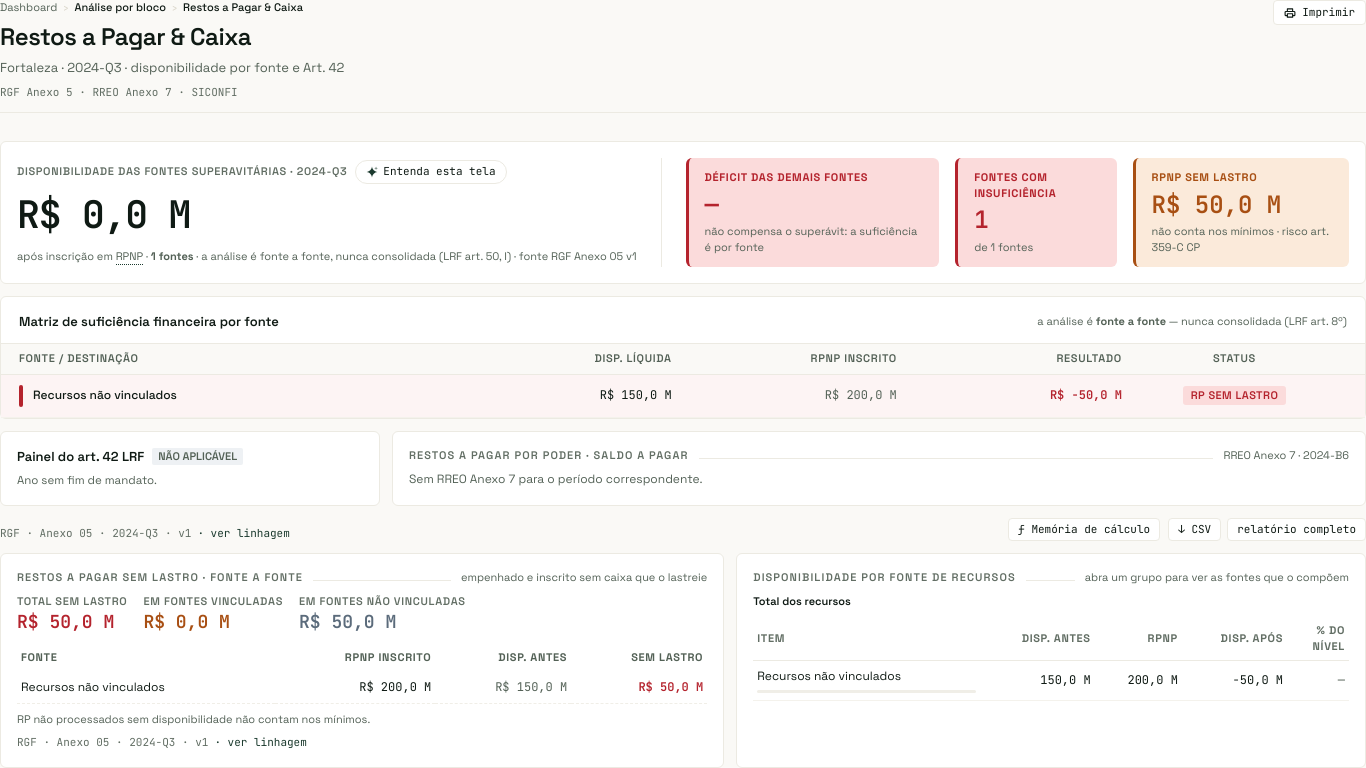
Test: Caixa — RP sem lastro, árvore por fonte e série › abre a memória de cálculo do caixa (endpoint antes ocioso)
Step 1. Click the button "ƒ Memória de cálculo" → click(1084, 530), box [1008,518,1160,541]
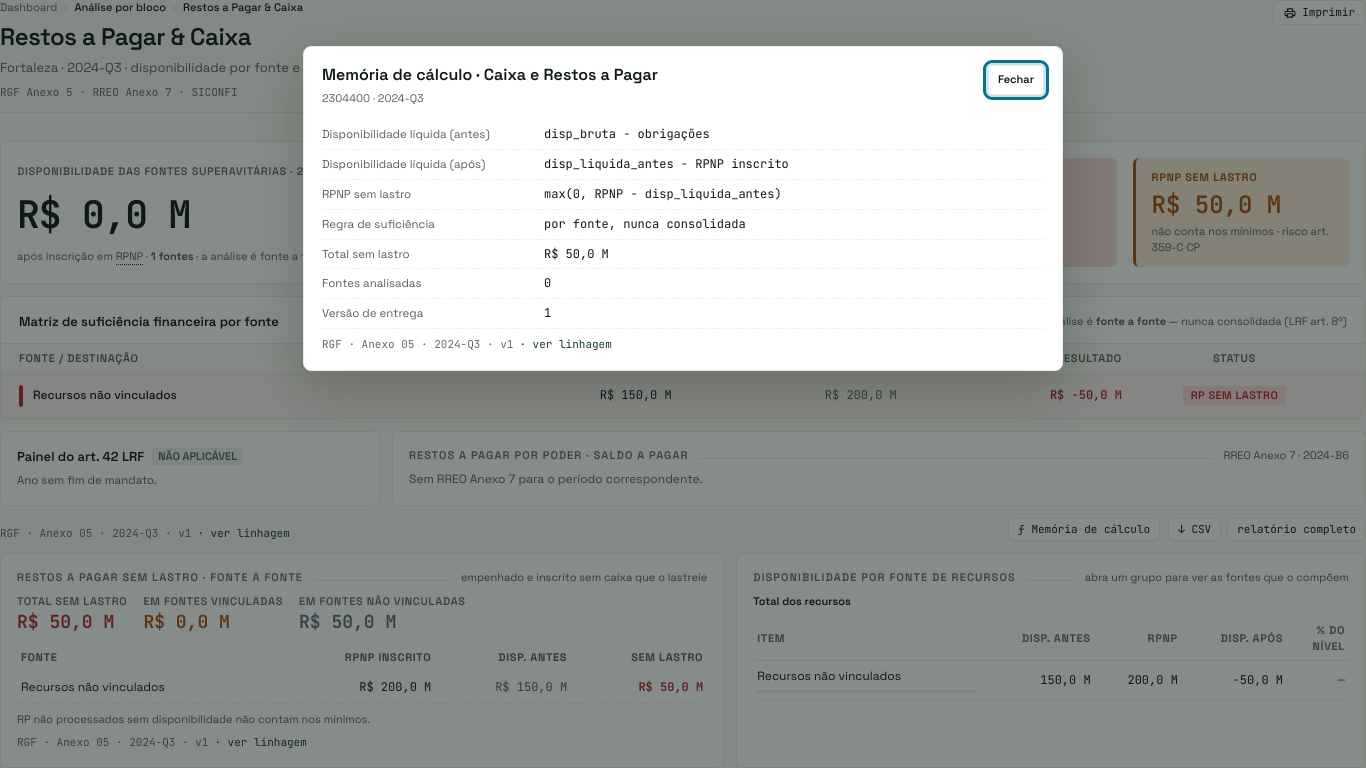
Expected: the text "max(0, RPNP − disp_liquida_antes)" is shown, [544,186,782,202]
Expected: the text "por fonte, nunca consolidada" is shown, [544,216,746,232]
